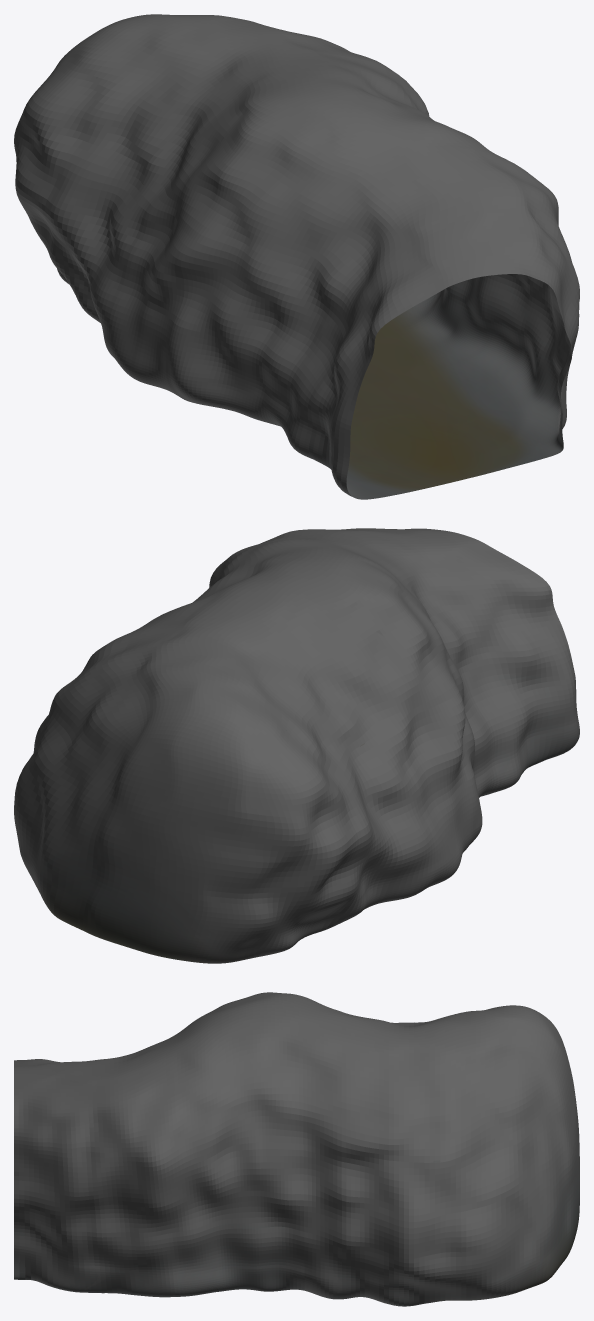
Rendered from Cave.fbx.
The picture shows the model from 3 angles, top to bottom: view 1: azimuth 30°, elevation 25°; view 2: azimuth 150°, elevation 25°; view 3: azimuth 270°, elevation 25°; orthographic projection. The views are drawn at different scales.
Parts seen in each view (by area): view 1: Cube; view 2: Cube; view 3: Cube.
Boxes of the visible parts, box(x1,y1,x2,y2) form: Cube: box(14, 14, 579, 499); Cube: box(14, 528, 579, 963); Cube: box(14, 992, 579, 1306).
Size of the model in its own units: 266 by 187 by 407.
